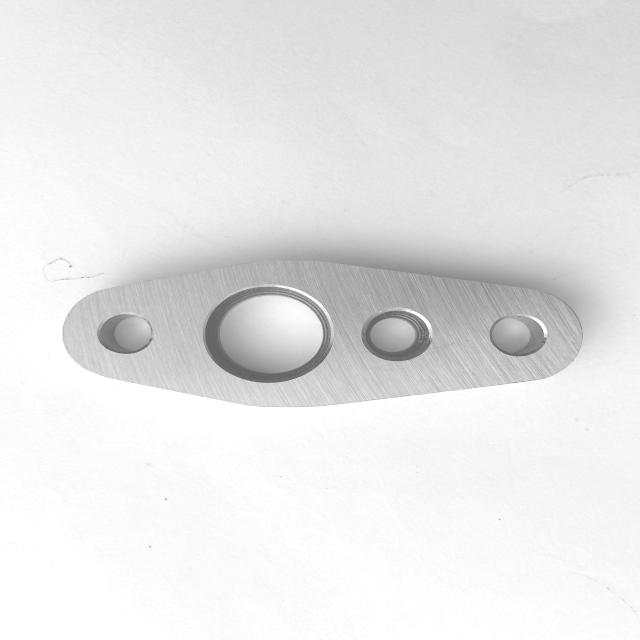lines: (356, 362, 401, 372), (339, 342, 364, 356)
